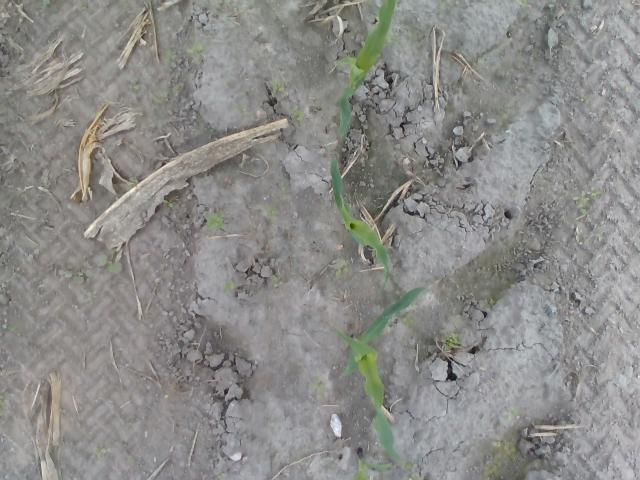Maize: (330, 286, 429, 468), (332, 1, 398, 139), (329, 156, 392, 292), (353, 447, 394, 480)
Weeds: (572, 188, 602, 220), (92, 249, 123, 275), (59, 265, 92, 283), (204, 213, 227, 234), (576, 230, 603, 246), (402, 463, 427, 480), (442, 333, 462, 353), (262, 202, 280, 218), (311, 378, 326, 396), (270, 80, 286, 96), (508, 405, 522, 422), (94, 445, 112, 458), (83, 290, 99, 304), (336, 261, 350, 276), (220, 282, 237, 294), (236, 104, 250, 118), (290, 108, 304, 122), (162, 50, 178, 62), (156, 91, 170, 104), (187, 44, 202, 56), (489, 436, 504, 448), (42, 0, 56, 12), (402, 316, 416, 328), (0, 396, 6, 422), (162, 198, 174, 210), (128, 178, 139, 190), (128, 78, 139, 89), (270, 276, 280, 288), (217, 1, 234, 8), (507, 188, 517, 198), (7, 325, 17, 334), (218, 473, 230, 480), (281, 180, 287, 193)
